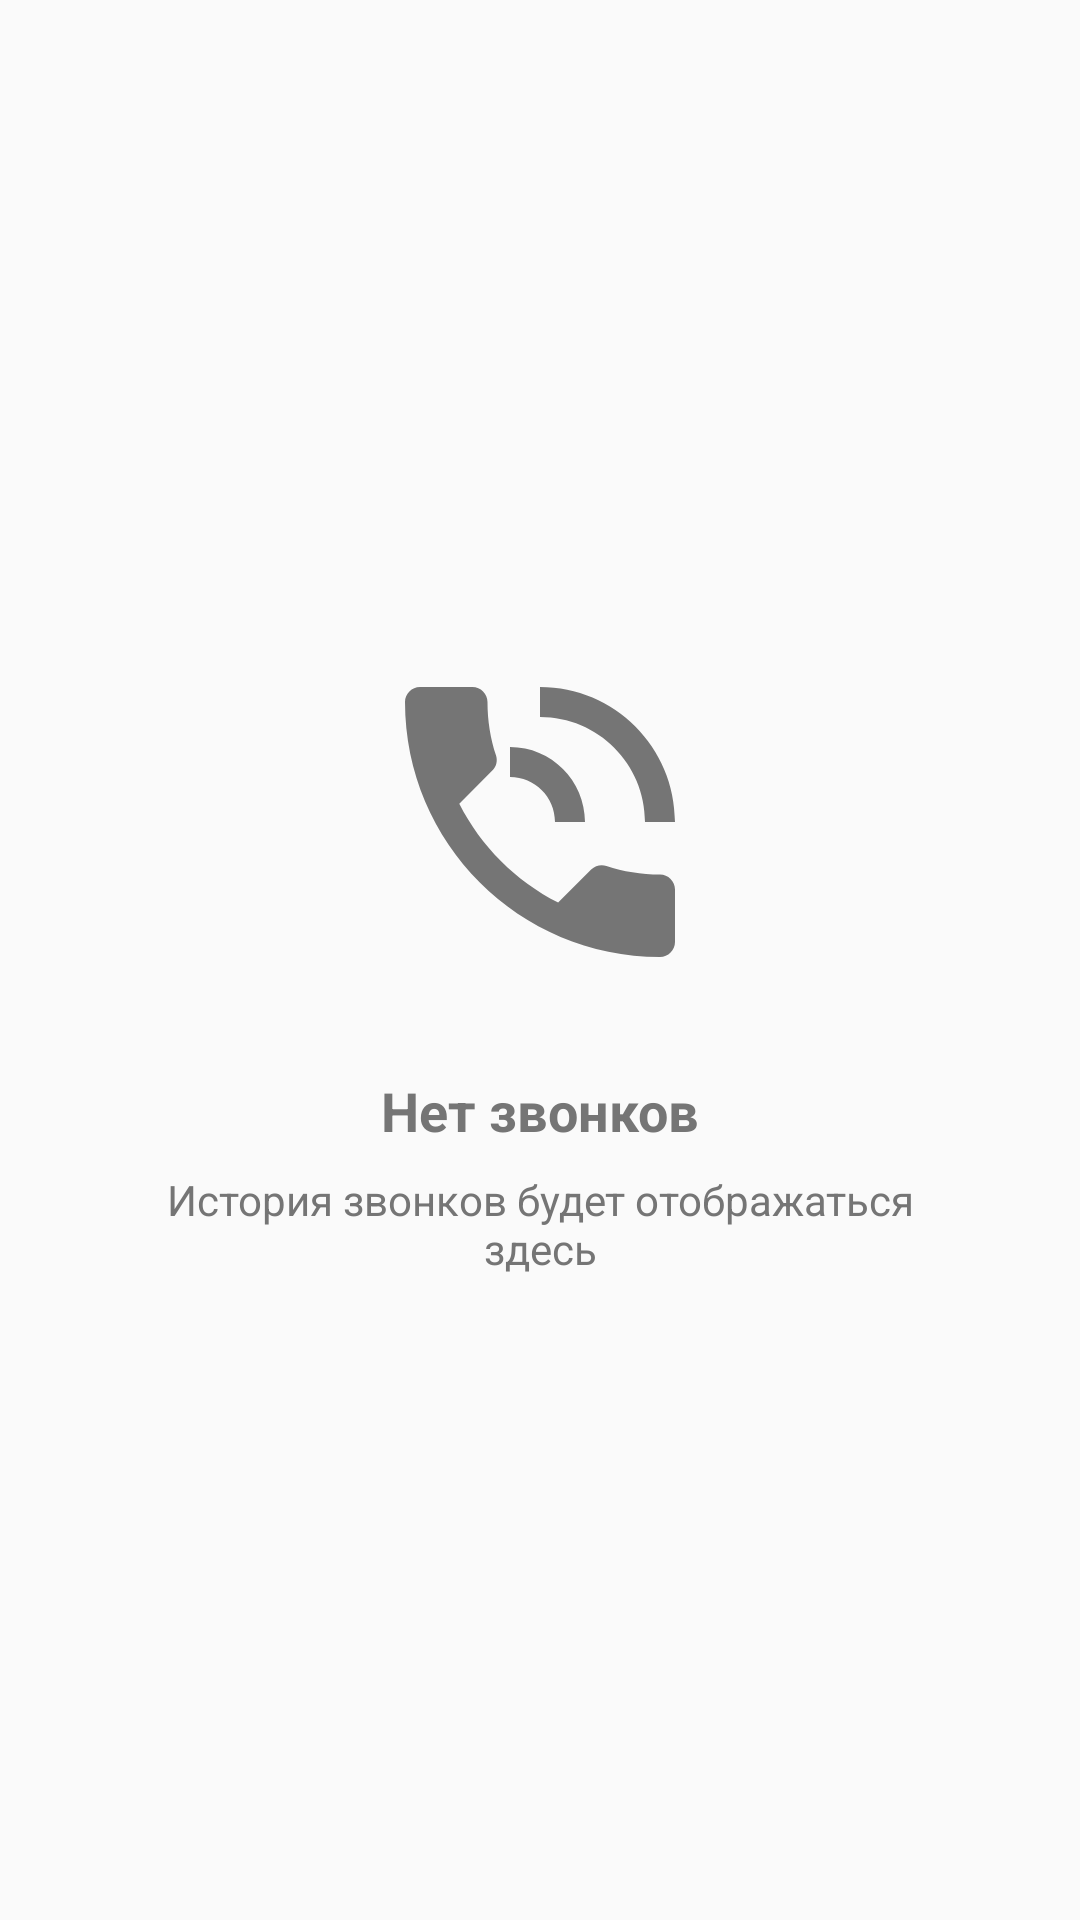

Where icons sit on this 1080 x 1920 app screen, as (x1, y1, x2, y2):
call empty: (405, 687, 675, 957)
